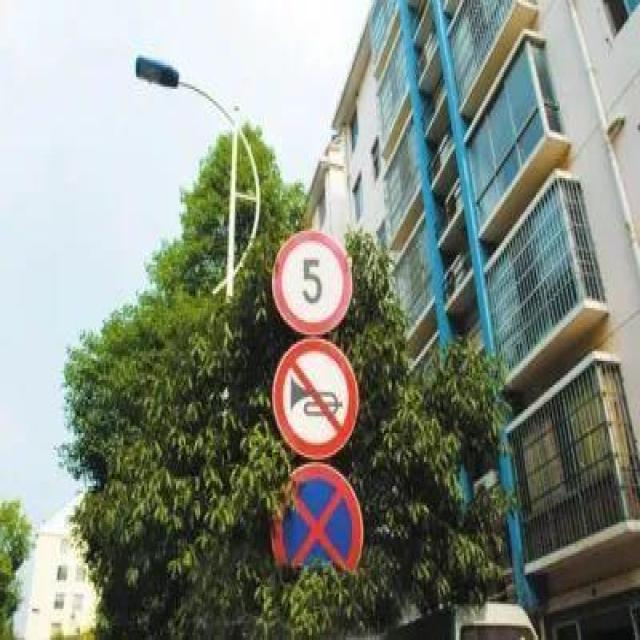speed limit 10: (271, 230, 353, 336)
